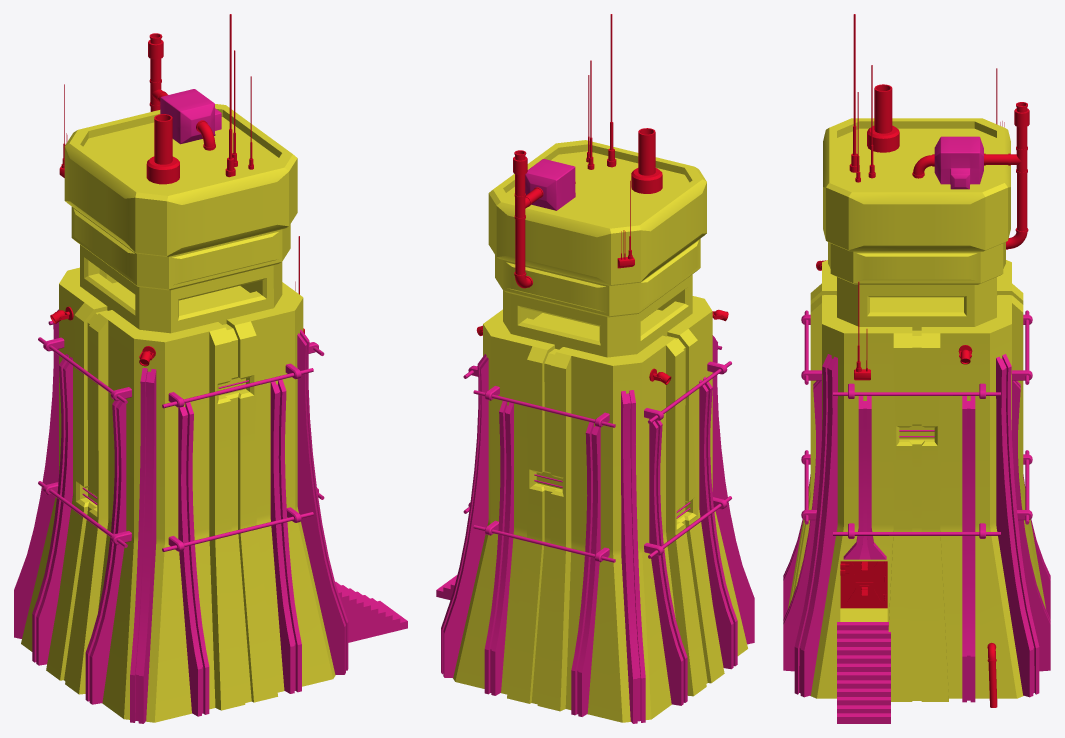
File: SM_Tower.fbx
3 views of the same model, side by side, from view 1: azimuth 30°, elevation 25°; view 2: azimuth 150°, elevation 25°; view 3: azimuth 270°, elevation 25° (orthographic). The views are drawn at different scales.
Parts seen in each view (by area): view 1: Main_Structure, Side_Struts, Corner_Struts, Bars, Stairs, AC_Unit, Chimney.003, Bar_Holders, Exhaust_Pipe.001, Large_Antenna.001; view 2: Main_Structure, Side_Struts, Corner_Struts, Bars, AC_Unit, Chimney.003, Bar_Holders, Elbow_Pipe.001, Large_Antenna.001, Exhaust_Pipe.001; view 3: Main_Structure, Corner_Struts, Side_Struts, Stairs, Door_Strut, Bars, AC_Unit, Door.002, Chimney.003, Bar_Holders, Elbow_Pipe.001, Exhaust_Pipe.001 (+2 smaller).
Part boxes in pixels (x1=…): Main_Structure: x1=21, y1=104, x2=335, y2=722; Side_Struts: x1=32, y1=354, x2=301, y2=716; Corner_Struts: x1=14, y1=309, x2=348, y2=723; Bars: x1=38, y1=321, x2=324, y2=551; Stairs: x1=335, y1=581, x2=407, y2=642; AC_Unit: x1=160, y1=89, x2=221, y2=144; Chimney.003: x1=146, y1=114, x2=179, y2=184; Bar_Holders: x1=43, y1=337, x2=318, y2=551; Exhaust_Pipe.001: x1=148, y1=33, x2=163, y2=82; Large_Antenna.001: x1=225, y1=14, x2=235, y2=177; Main_Structure: x1=453, y1=140, x2=747, y2=722; Side_Struts: x1=484, y1=376, x2=737, y2=716; Corner_Struts: x1=441, y1=335, x2=754, y2=723; Bars: x1=463, y1=345, x2=731, y2=562; AC_Unit: x1=525, y1=159, x2=575, y2=210; Chimney.003: x1=631, y1=128, x2=662, y2=193; Bar_Holders: x1=468, y1=361, x2=727, y2=562; Elbow_Pipe.001: x1=514, y1=219, x2=532, y2=288; Large_Antenna.001: x1=607, y1=14, x2=616, y2=167; Exhaust_Pipe.001: x1=513, y1=150, x2=527, y2=196; Main_Structure: x1=788, y1=118, x2=1045, y2=701; Corner_Struts: x1=794, y1=354, x2=1039, y2=697; Side_Struts: x1=783, y1=380, x2=1050, y2=702; Stairs: x1=837, y1=622, x2=890, y2=723; Door_Strut: x1=843, y1=396, x2=886, y2=559; Bars: x1=804, y1=310, x2=1029, y2=535; AC_Unit: x1=934, y1=136, x2=983, y2=189; Door.002: x1=840, y1=561, x2=887, y2=608; Chimney.003: x1=867, y1=84, x2=899, y2=152; Bar_Holders: x1=801, y1=314, x2=1032, y2=538; Elbow_Pipe.001: x1=1006, y1=173, x2=1028, y2=249; Exhaust_Pipe.001: x1=1014, y1=102, x2=1029, y2=149.
Bounding box in the file's own units: 987 × 1262 × 2629.
